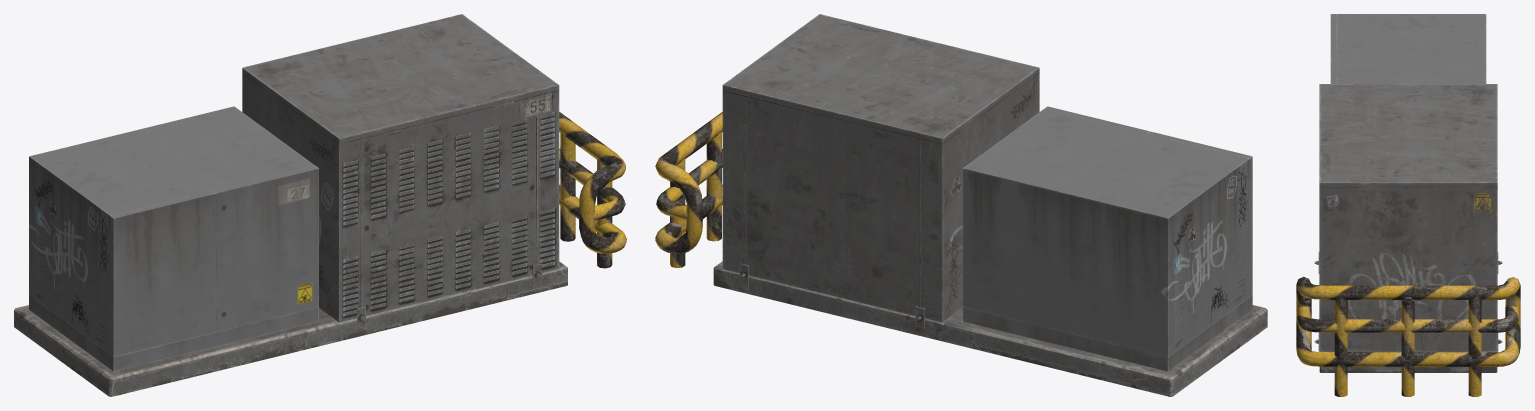
The model's file is electric-box.glb.
The picture shows the model from 3 angles, left to right: view 1: azimuth 30°, elevation 25°; view 2: azimuth 150°, elevation 25°; view 3: azimuth 270°, elevation 25°; orthographic projection. The views are drawn at different scales.
Parts seen in each view (by area): view 1: pCube1 transformer_L_low electric_box_low, electric_box_low pCube38 controll_box_low, electric_box_low controll_box_low pCube37, electric_box_low controll_box_low pCube36, electric_box_low concrete_block_low, electric_box_low guard:guard, electric_box_low controll_box_low pCube2; view 2: pCube1 transformer_L_low electric_box_low, electric_box_low pCube38 controll_box_low, electric_box_low concrete_block_low, electric_box_low guard:guard, electric_box_low controll_box_low pCube2, electric_box_low controll_box_low pCube37; view 3: pCube1 transformer_L_low electric_box_low, electric_box_low guard:guard, electric_box_low pCube38 controll_box_low, electric_box_low concrete_block_low, electric_box_low controll_box_low pCube37.
Boxes of the visible parts, box(x1,y1,x2,y2) form: pCube1 transformer_L_low electric_box_low: box(242, 14, 559, 322); electric_box_low pCube38 controll_box_low: box(29, 106, 315, 354); electric_box_low controll_box_low pCube37: box(110, 191, 216, 356); electric_box_low controll_box_low pCube36: box(213, 166, 318, 331); electric_box_low concrete_block_low: box(14, 261, 567, 396); electric_box_low guard:guard: box(559, 112, 626, 268); electric_box_low controll_box_low pCube2: box(29, 295, 318, 371); pCube1 transformer_L_low electric_box_low: box(722, 14, 1039, 322); electric_box_low pCube38 controll_box_low: box(963, 108, 1249, 356); electric_box_low concrete_block_low: box(713, 261, 1267, 396); electric_box_low guard:guard: box(655, 112, 722, 267); electric_box_low controll_box_low pCube2: box(963, 295, 1252, 371); electric_box_low controll_box_low pCube37: box(1147, 131, 1252, 296); pCube1 transformer_L_low electric_box_low: box(1319, 84, 1497, 351); electric_box_low guard:guard: box(1296, 276, 1520, 396); electric_box_low pCube38 controll_box_low: box(1336, 14, 1486, 83); electric_box_low concrete_block_low: box(1319, 351, 1497, 372); electric_box_low controll_box_low pCube37: box(1330, 14, 1336, 59).
Bounding box in the file's own units: 3.5 × 1.32 × 1.45.
Materials: 4 (4 with a texture image).
